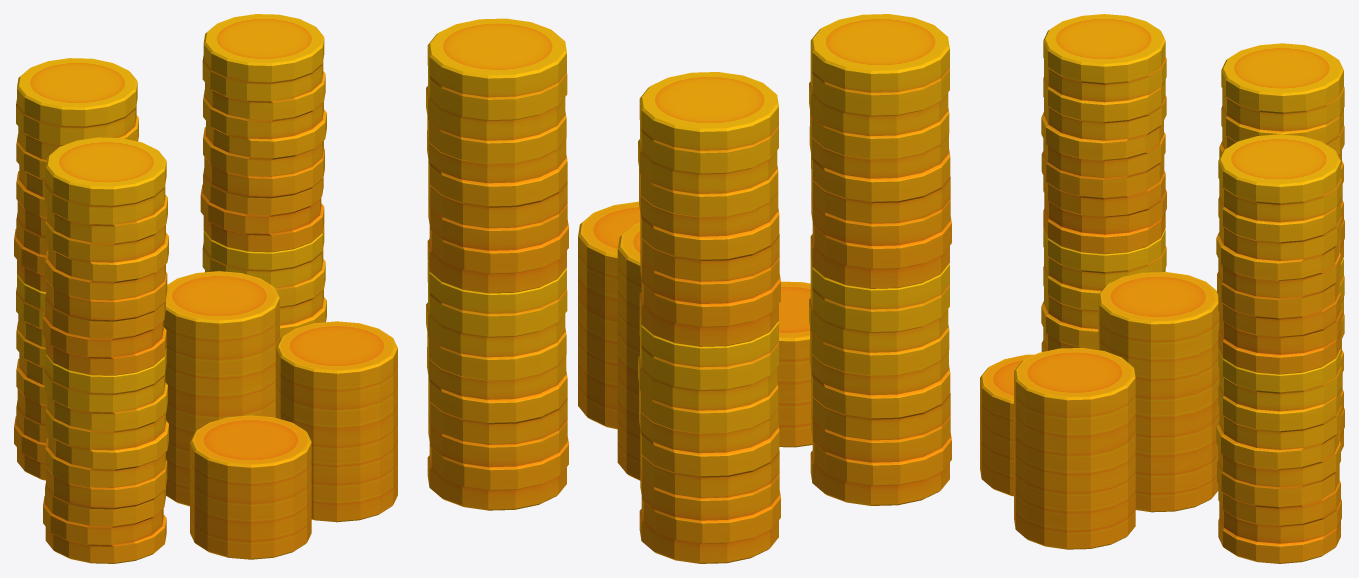
Rendered from pile of coins new.fbx.
The picture shows the model from 3 angles, left to right: view 1: azimuth 30°, elevation 25°; view 2: azimuth 150°, elevation 25°; view 3: azimuth 270°, elevation 25°; orthographic projection. The views are drawn at different scales.
Visible parts, largest first — view 1: pile_of_coins_new; view 2: pile_of_coins_new; view 3: pile_of_coins_new.
Boxes of the visible parts, x1,y1,x2,y2 form: pile_of_coins_new: (14,14,397,563); pile_of_coins_new: (426,14,951,563); pile_of_coins_new: (980,14,1344,563).
Size of the model in its own units: 235 by 239 by 208.
2 materials, 2 textured.
